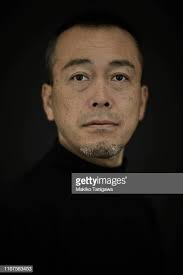asian_male: (41, 18, 153, 167)
